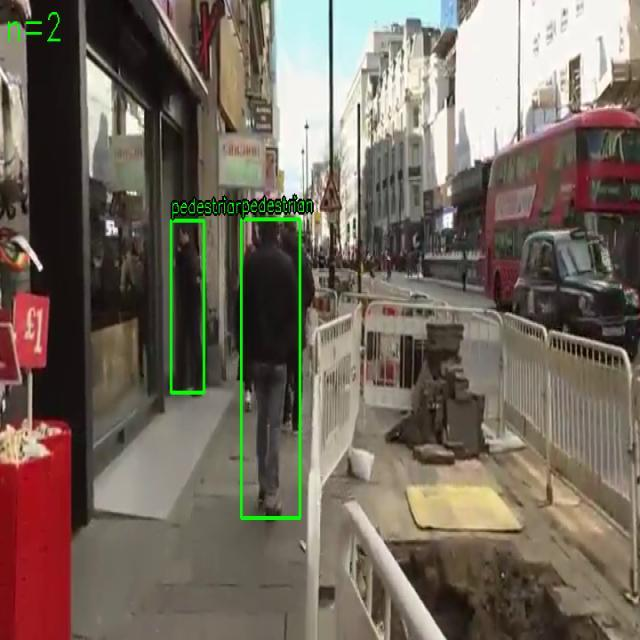with scooter: (240, 218, 300, 518), (170, 220, 204, 393)
